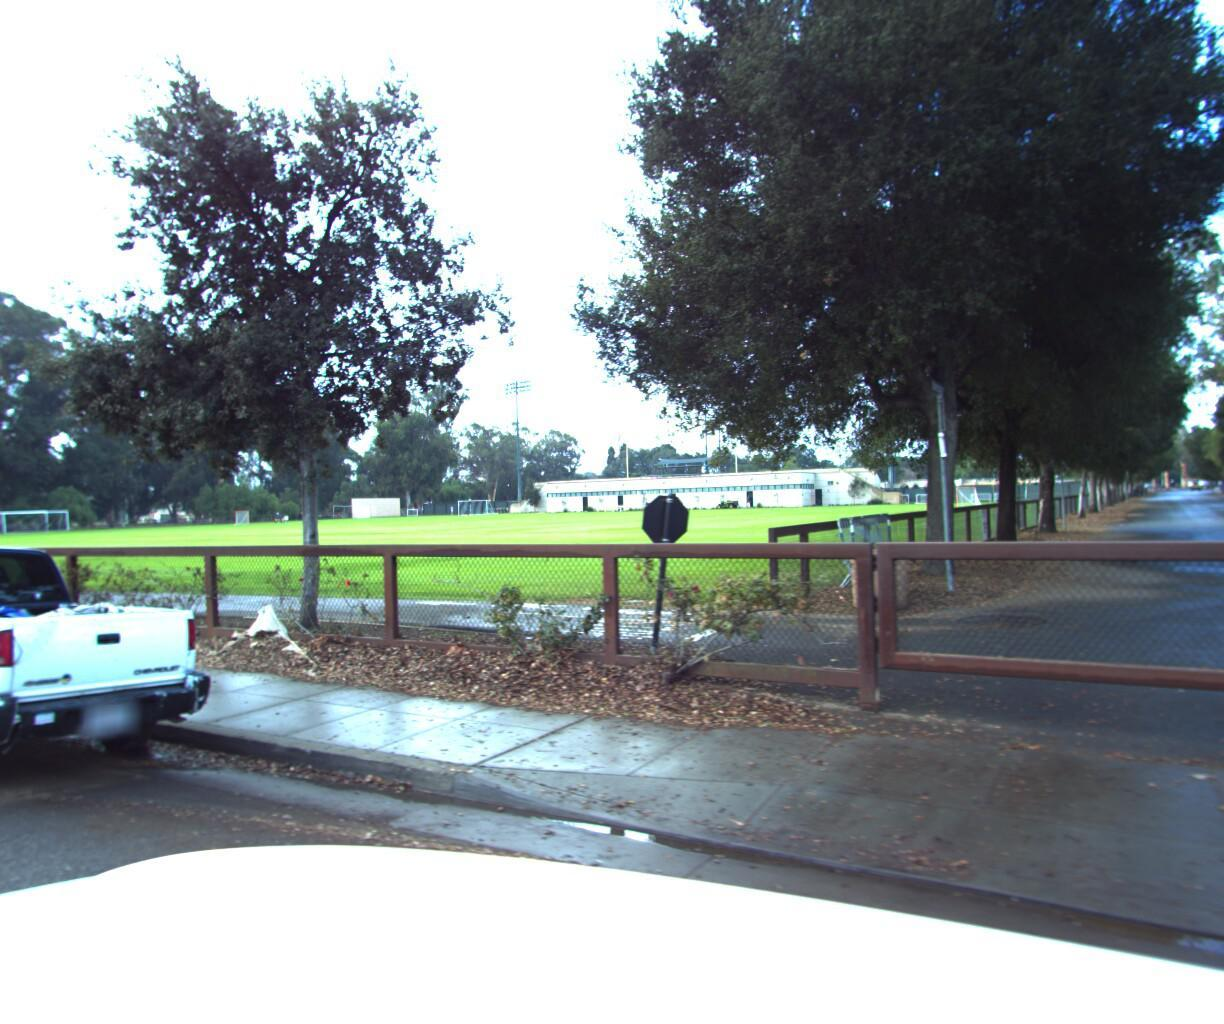car: (0, 525, 250, 838)
